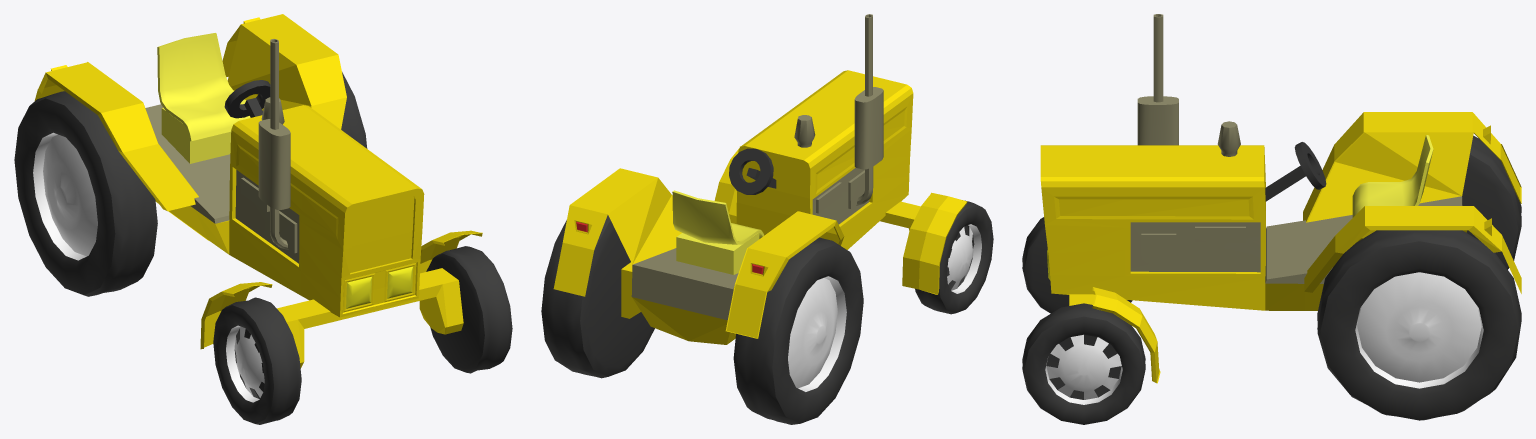
The model's file is Tractor.fbx.
3 views of the same model, side by side, from view 1: azimuth 30°, elevation 25°; view 2: azimuth 150°, elevation 25°; view 3: azimuth 270°, elevation 25° (orthographic). The views are drawn at different scales.
Visible parts, largest first — view 1: Hull, RR_Wheel, FR_Wheel, Seat, FL_Wheel, Hull2, Pipe, YellowLight, Rotator, RL_Wheel; view 2: Hull, RR_Wheel, RL_Wheel, Hull2, Seat, FR_Wheel, Pipe, Rotator; view 3: Hull, RL_Wheel, FL_Wheel, Hull2, RR_Wheel, Pipe, Seat, FR_Wheel, Rotator.
Part boxes in pixels (x1,y1,x2,y2): Hull: (34, 14, 482, 368); RR_Wheel: (14, 91, 157, 296); FR_Wheel: (213, 297, 301, 424); Seat: (157, 33, 250, 163); FL_Wheel: (426, 246, 512, 373); Hull2: (145, 104, 299, 263); Pipe: (258, 39, 290, 249); YellowLight: (346, 266, 413, 308); Rotator: (224, 80, 270, 118); RL_Wheel: (341, 72, 367, 148); Hull: (553, 70, 967, 344); RR_Wheel: (733, 237, 863, 424); RL_Wheel: (541, 215, 654, 378); Hull2: (631, 168, 869, 320); Seat: (672, 190, 763, 274); FR_Wheel: (915, 200, 993, 314); Pipe: (794, 14, 883, 205); Rotator: (729, 148, 776, 194); Hull: (1040, 112, 1521, 383); RL_Wheel: (1317, 230, 1521, 420); FL_Wheel: (1022, 303, 1145, 424); Hull2: (1130, 196, 1462, 283); RR_Wheel: (1462, 135, 1521, 269); Pipe: (1137, 14, 1240, 156); Seat: (1352, 135, 1433, 217); FR_Wheel: (1022, 217, 1132, 313); Rotator: (1265, 142, 1326, 201).
Size of the model in its own units: 187 by 230 by 315.
